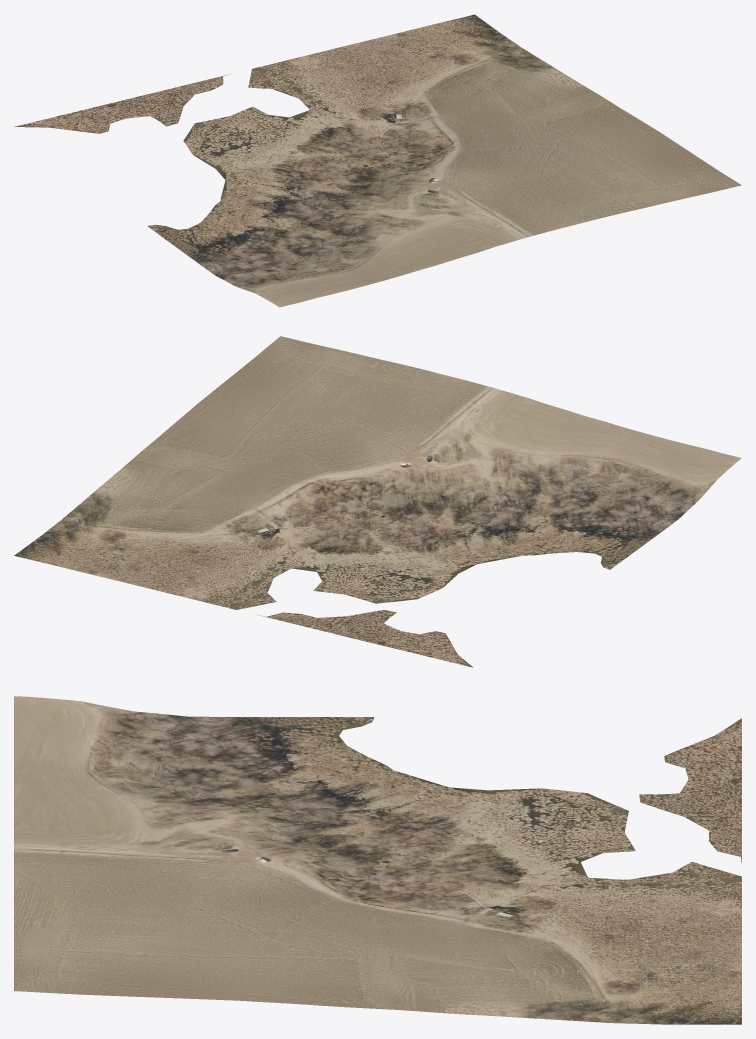
File: CM_Terrain_24490458_6818975.fbx
3 views of the same model, one above another, from view 1: azimuth 30°, elevation 25°; view 2: azimuth 150°, elevation 25°; view 3: azimuth 270°, elevation 25° (orthographic). The views are drawn at different scales.
Visible parts, largest first — view 1: CM_Terrain_24490458_6818975_LOD0; view 2: CM_Terrain_24490458_6818975_LOD0; view 3: CM_Terrain_24490458_6818975_LOD0.
Part boxes in pixels (left/top/right/bottom): CM_Terrain_24490458_6818975_LOD0: left=14, top=14, right=741, bottom=307; CM_Terrain_24490458_6818975_LOD0: left=14, top=336, right=741, bottom=667; CM_Terrain_24490458_6818975_LOD0: left=14, top=696, right=741, bottom=1024.
Size of what is drawn, in the model's own units: 205 by 11.11 by 205.
